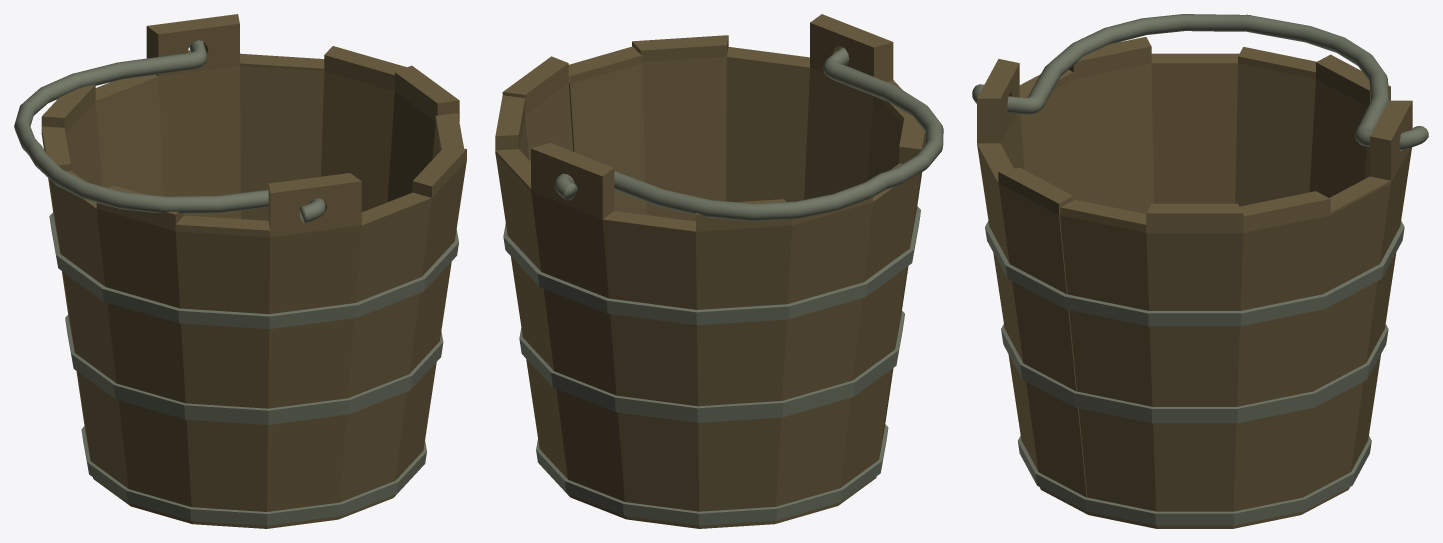
Rendered from SceauEnBois.glb.
3 views of the same model, side by side, from view 1: azimuth 30°, elevation 25°; view 2: azimuth 150°, elevation 25°; view 3: azimuth 270°, elevation 25° (orthographic).
Parts seen in each view (by area): view 1: BezierCurve; view 2: BezierCurve; view 3: BezierCurve.
Part boxes in pixels (x1,y1,x2,y2): BezierCurve: (14,14,466,528); BezierCurve: (495,14,943,528); BezierCurve: (972,14,1428,528).
Size of the model in its own units: 2.08 by 1.82 by 2.09.
